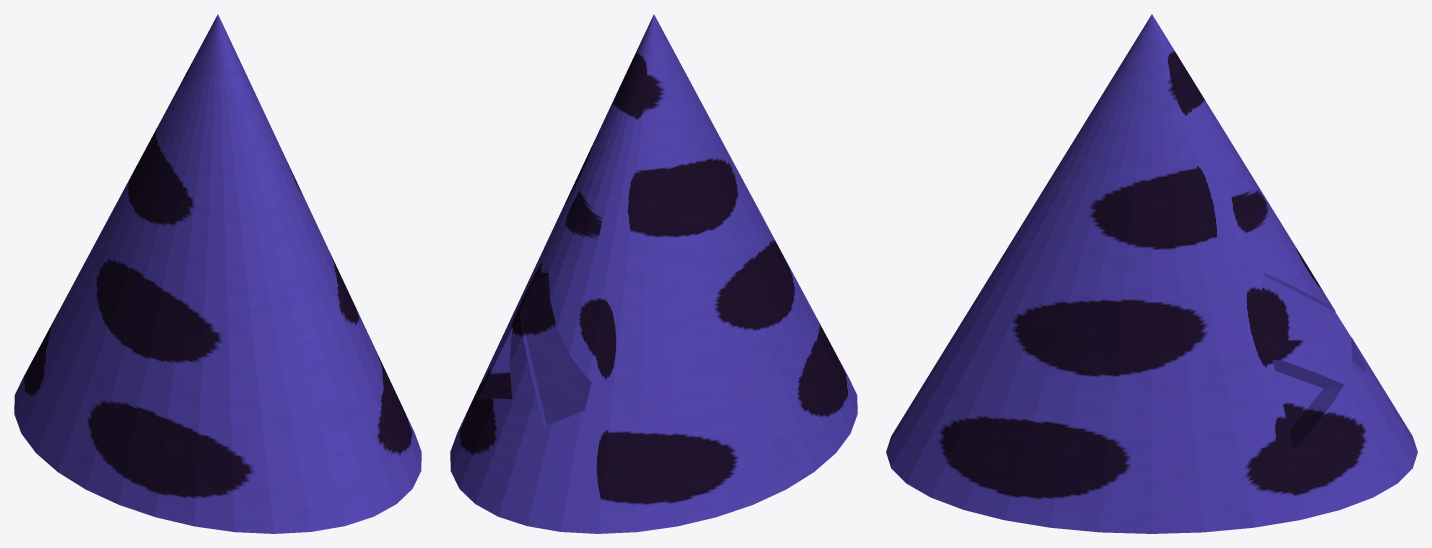
3 views of the same model, side by side, from view 1: azimuth 30°, elevation 25°; view 2: azimuth 150°, elevation 25°; view 3: azimuth 270°, elevation 25° (orthographic). The views are drawn at different scales.
Parts seen in each view (by area): view 1: geometry_0; view 2: geometry_0; view 3: geometry_0.
Boxes of the visible parts, x1,y1,x2,y2 form: geometry_0: [14, 14, 421, 533]; geometry_0: [450, 14, 857, 533]; geometry_0: [886, 14, 1417, 533].
Bounding box in the file's own units: 1.67 × 2.09 × 2.3.
Materials: 1 (1 with a texture image).
